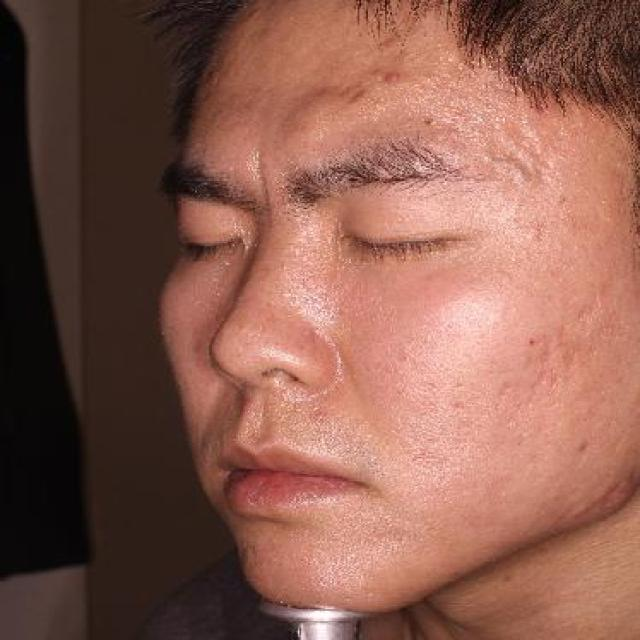darkspot: (335, 73, 368, 110), (366, 60, 405, 88)
nodules: (572, 477, 628, 517)
